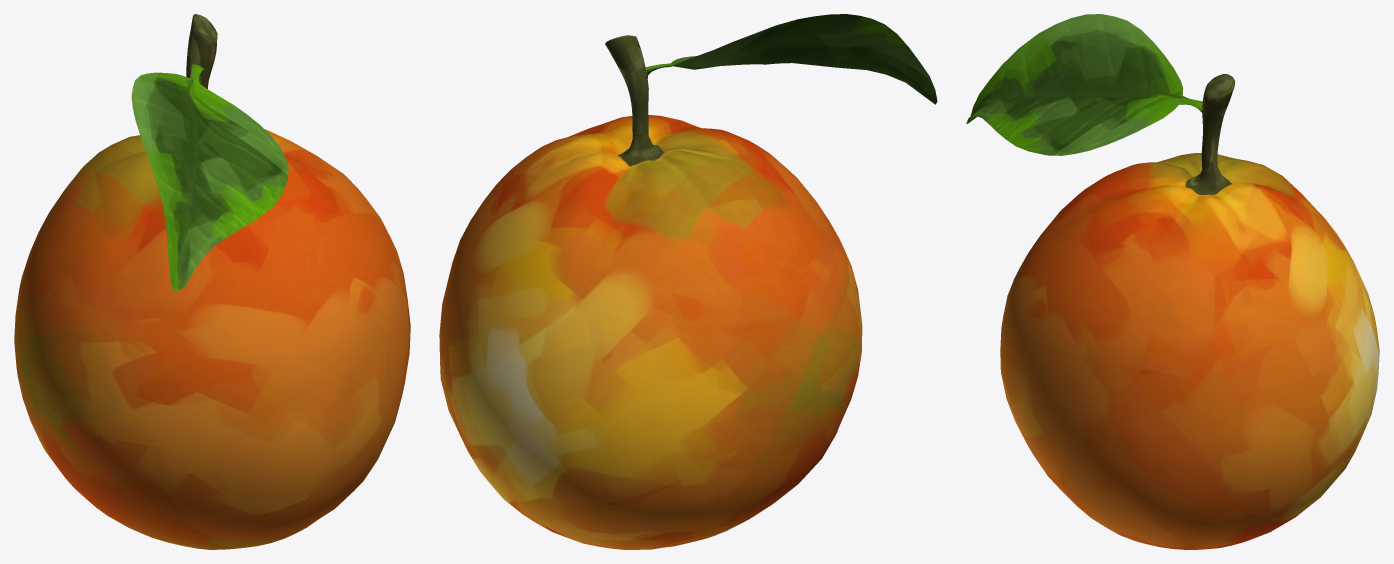
The model's file is Orange.fbx.
3 views of the same model, side by side, from view 1: azimuth 30°, elevation 25°; view 2: azimuth 150°, elevation 25°; view 3: azimuth 270°, elevation 25° (orthographic). The views are drawn at different scales.
Visible parts, largest first — view 1: node_id48; view 2: node_id48; view 3: node_id48.
Boxes of the visible parts, bbox=[...] form: node_id48: bbox=[14, 14, 410, 549]; node_id48: bbox=[439, 14, 937, 549]; node_id48: bbox=[966, 14, 1379, 549].
Size of the model in its own units: 0.3744 by 0.512 by 0.4179.
1 material, 1 textured.
